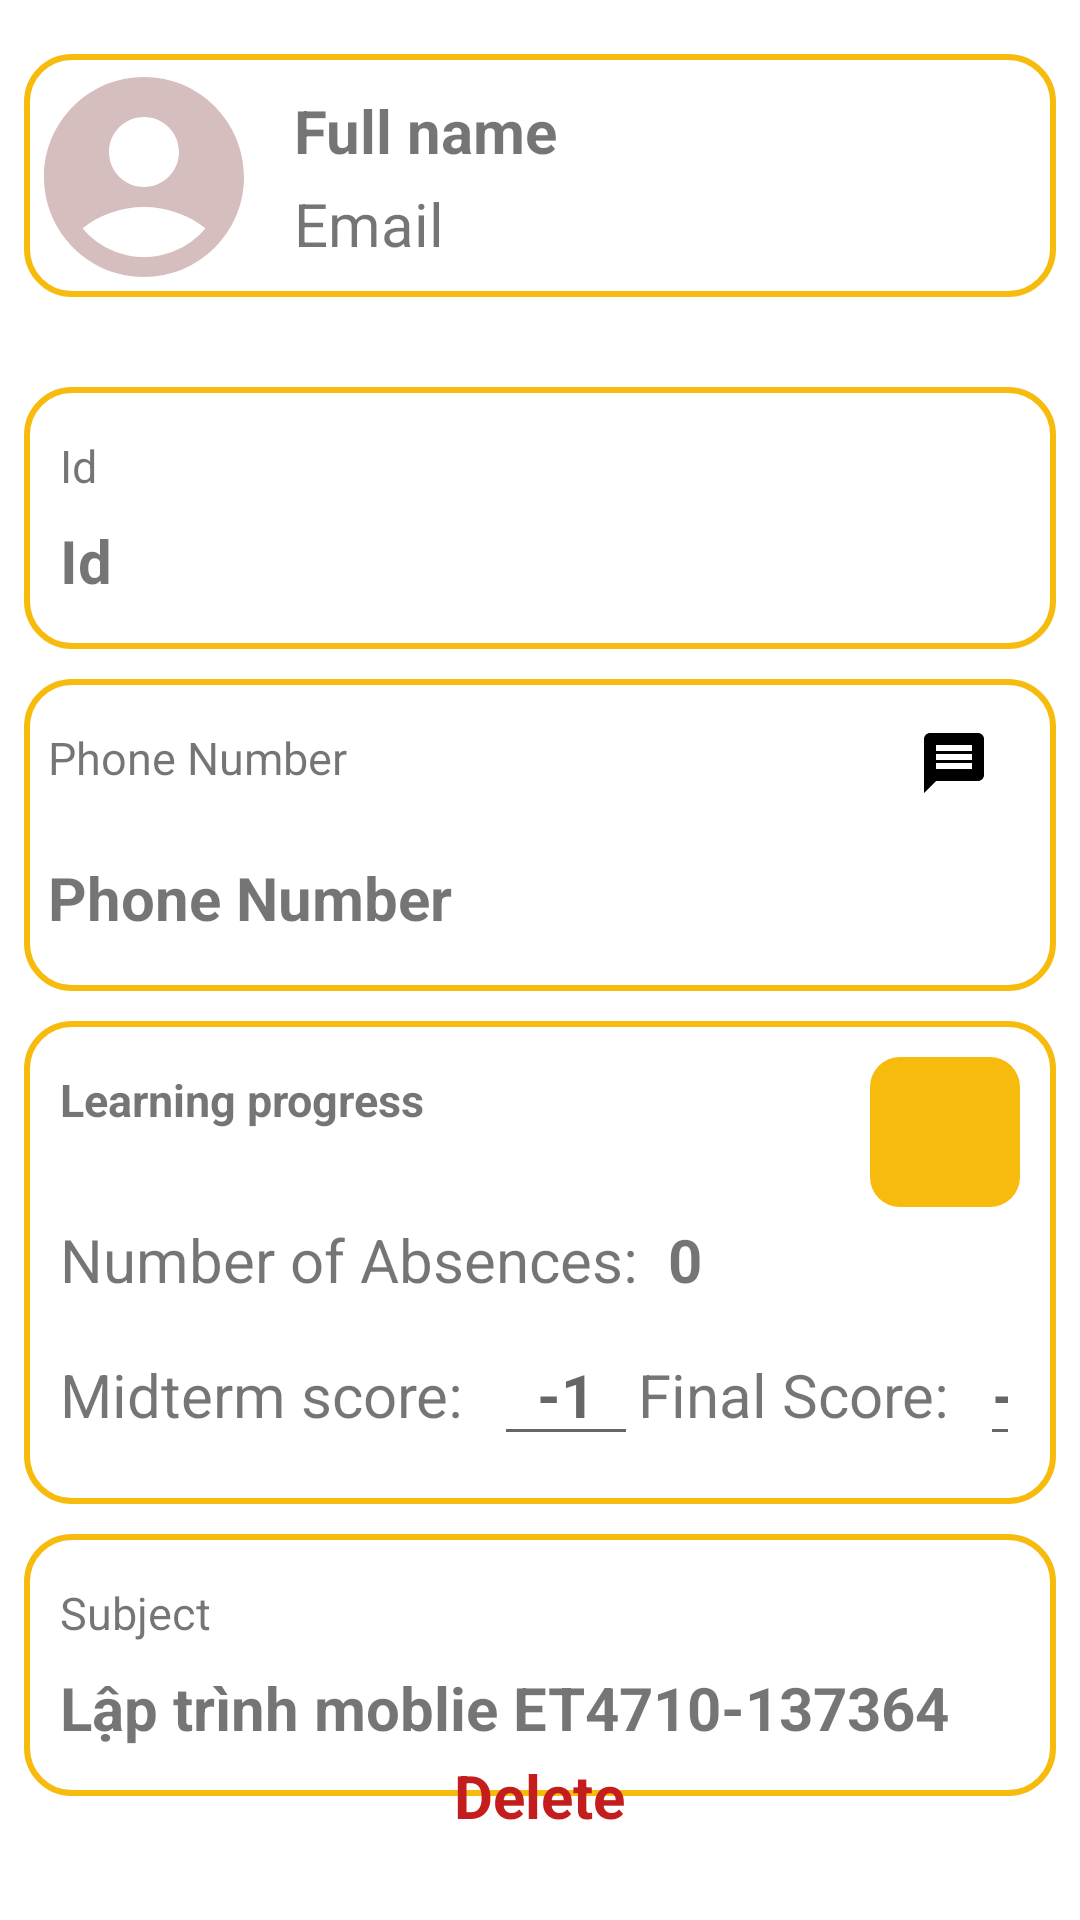

Icon click points for this 1080×1920 phone screenshot, format (x=x, y=y):
message: (x=954, y=763)
